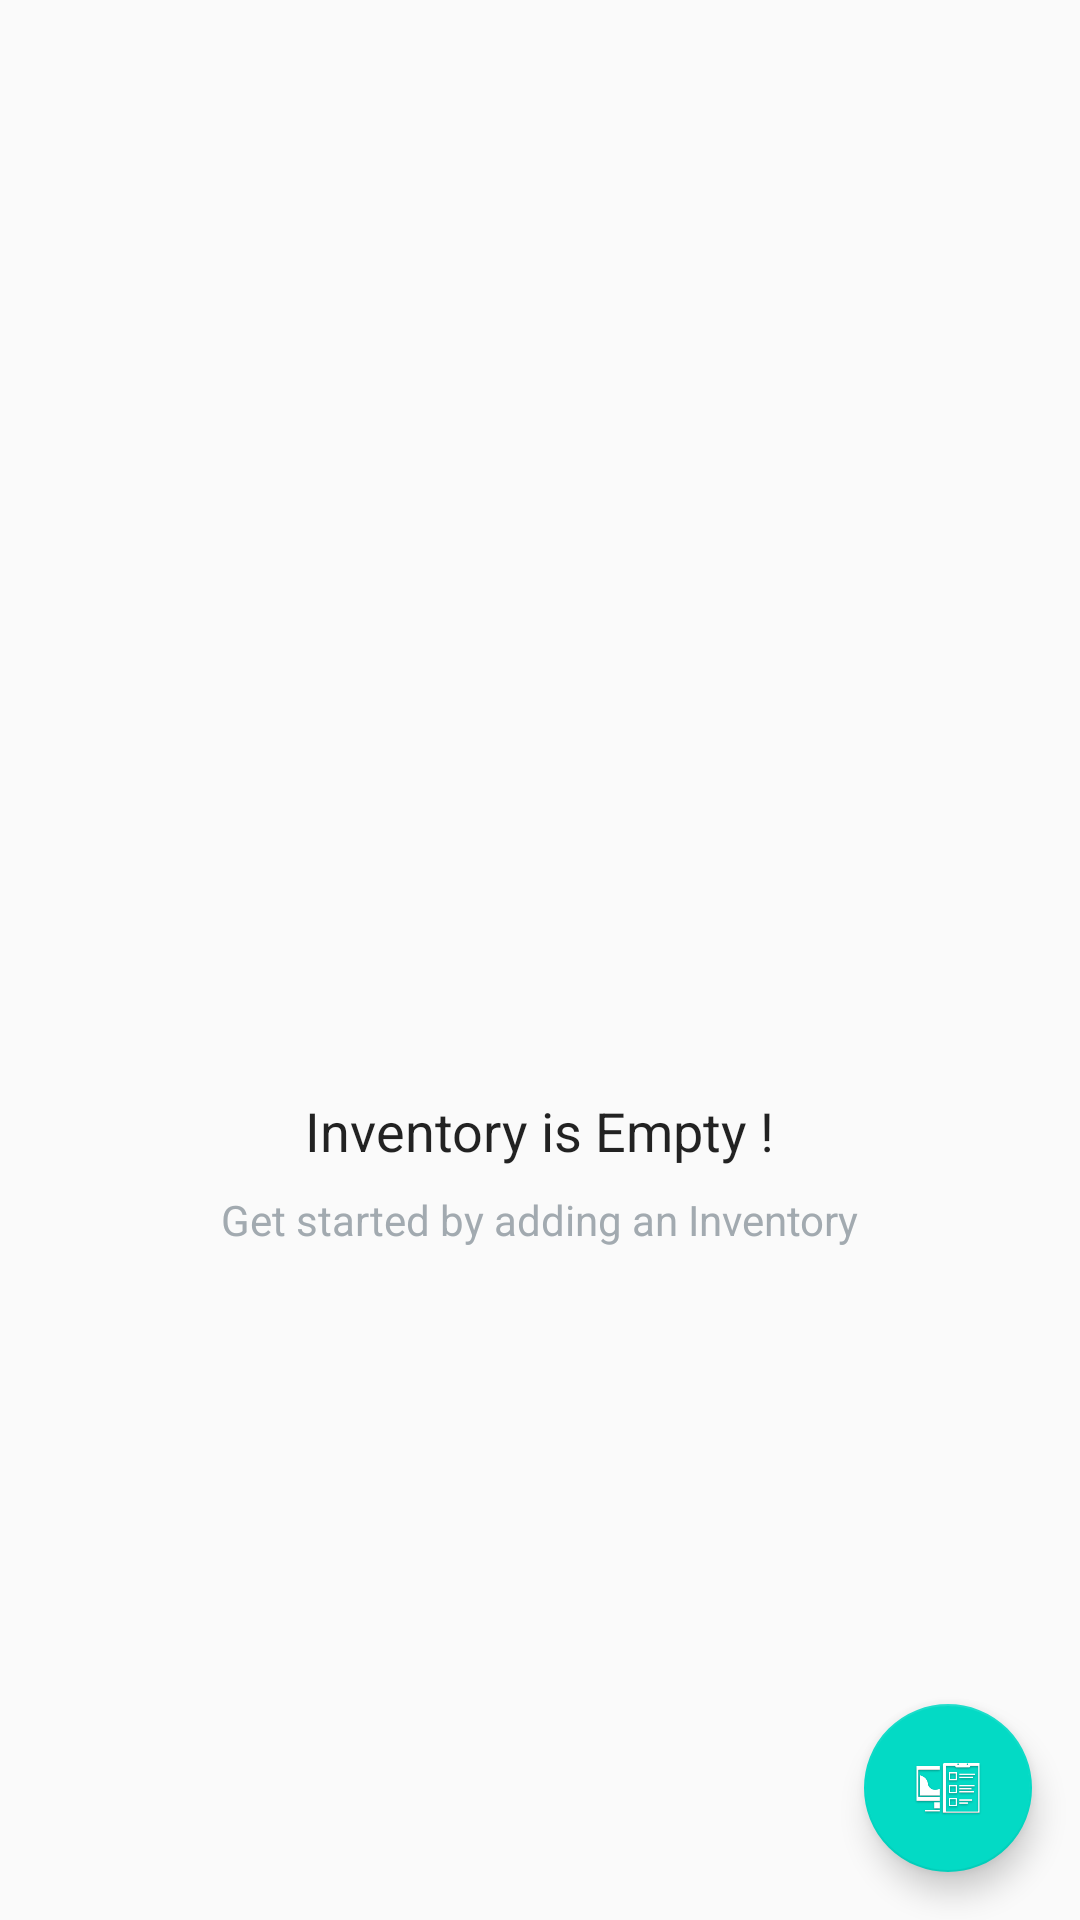

Icons on this 1080px×1920px Android screen, each with the point to tap as point (x, y):
addinventory: point (948, 1788)
